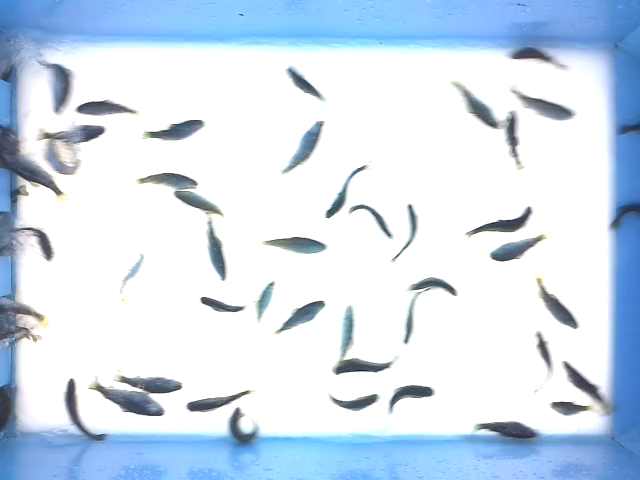fish: (86, 375, 165, 419), (1, 153, 70, 201), (61, 376, 109, 444), (561, 358, 614, 416), (450, 79, 506, 132), (323, 160, 373, 219), (508, 82, 579, 123), (278, 119, 327, 178), (535, 271, 581, 331), (35, 54, 75, 117), (462, 205, 534, 239), (504, 43, 572, 73), (184, 386, 256, 414), (272, 299, 326, 336), (34, 120, 107, 147), (8, 224, 57, 264), (389, 202, 420, 265), (402, 285, 434, 345), (489, 232, 548, 264), (171, 188, 227, 221), (386, 383, 437, 419), (283, 64, 328, 104), (205, 214, 231, 283), (110, 371, 184, 395), (348, 203, 394, 241), (40, 139, 85, 176), (140, 118, 207, 141), (472, 419, 542, 441), (504, 109, 527, 172), (260, 236, 330, 256), (227, 406, 262, 445), (134, 171, 201, 191), (534, 328, 554, 395), (330, 357, 400, 375), (117, 254, 146, 297), (336, 303, 356, 365), (74, 99, 142, 117), (405, 276, 460, 298), (327, 391, 380, 412), (253, 280, 277, 324), (200, 295, 247, 315), (548, 399, 595, 417)
